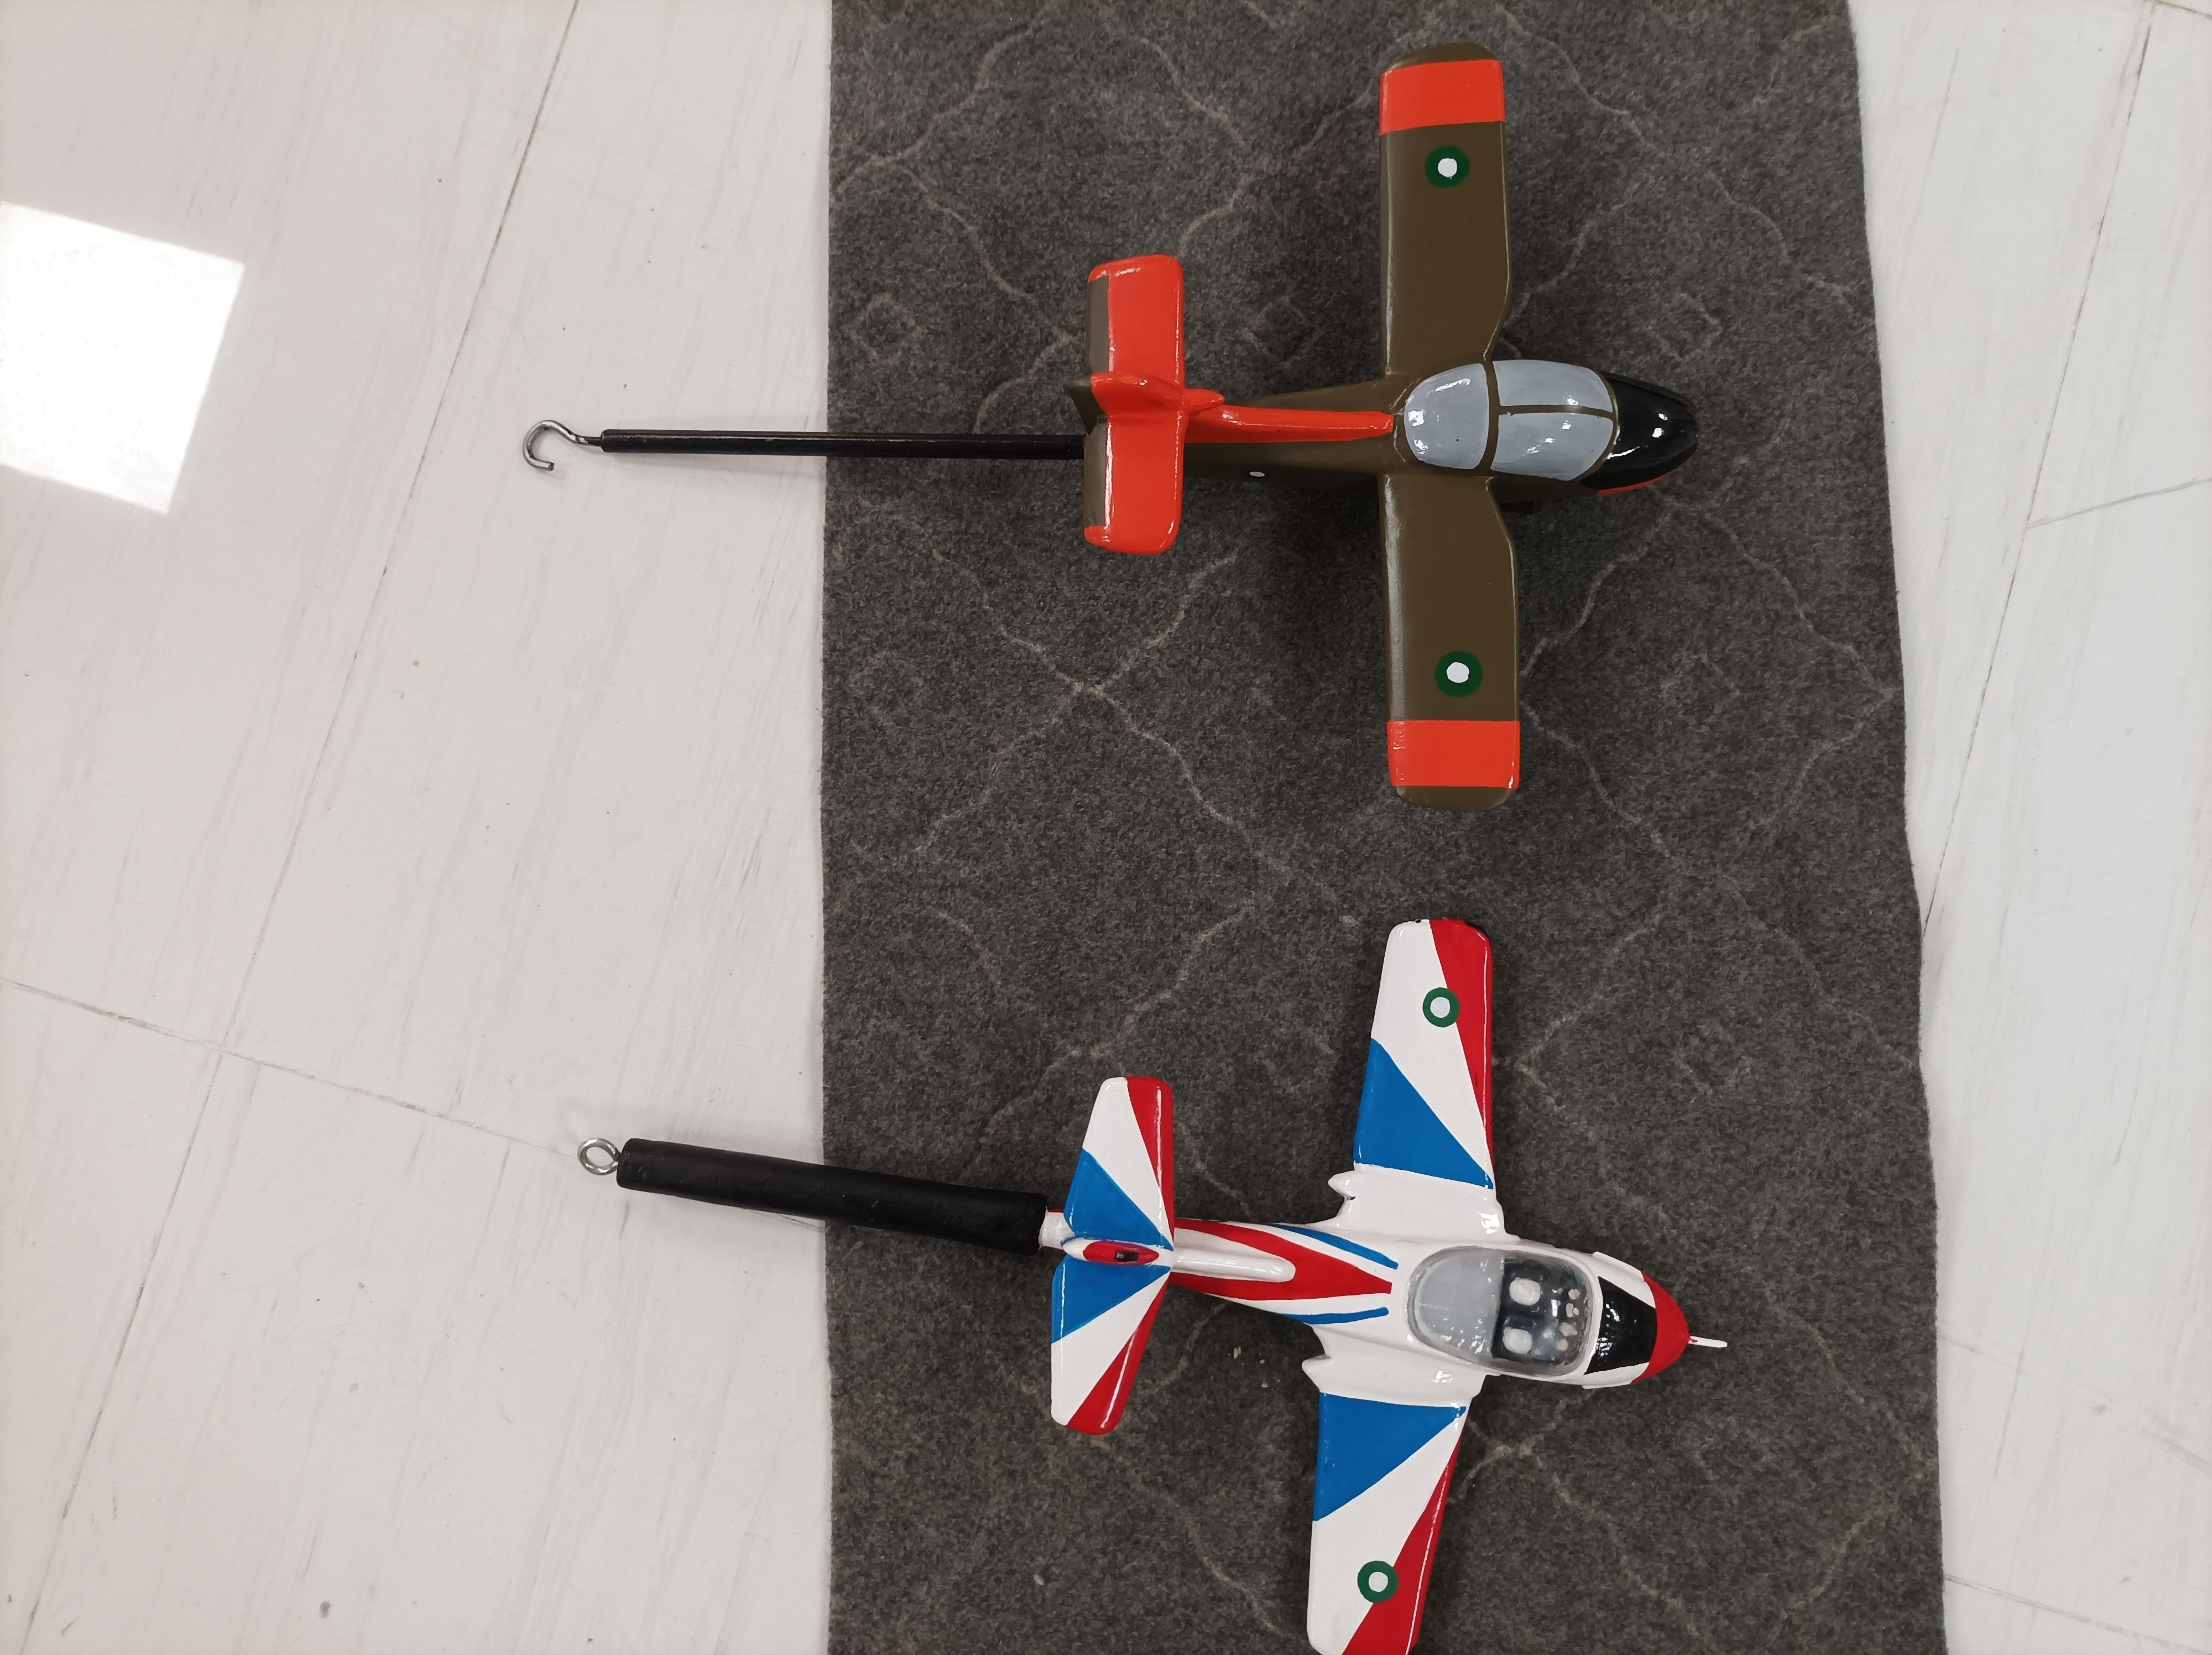Airplane: (1018, 883, 1753, 1655), (1070, 33, 1725, 805)
